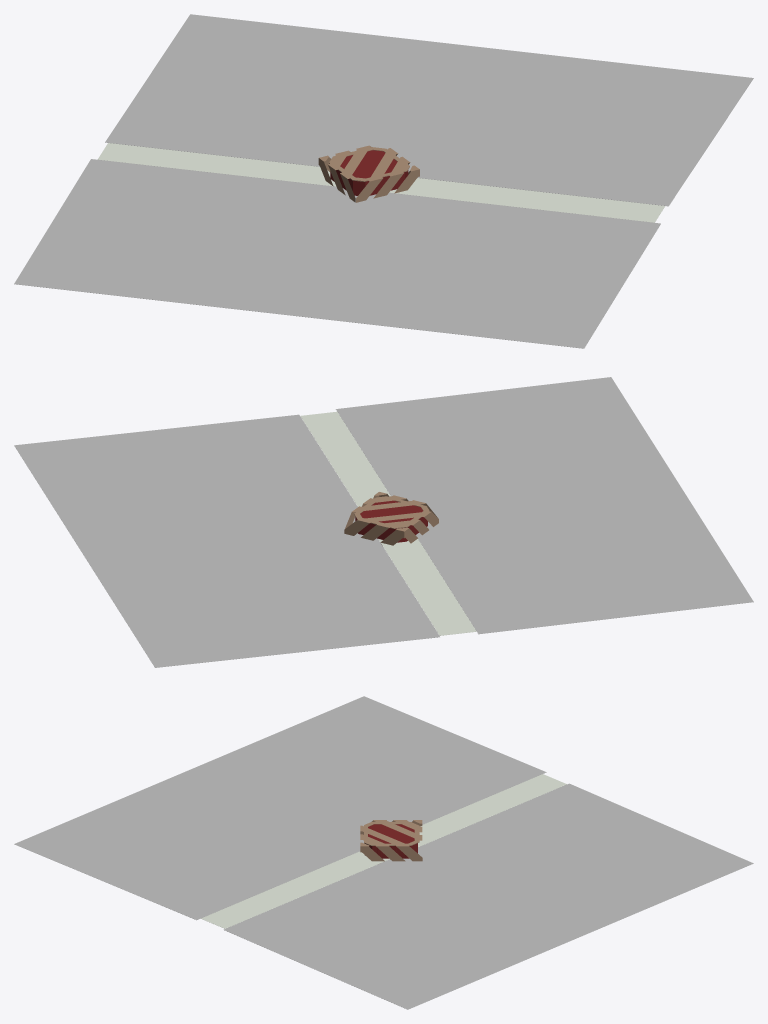
The model's file is Exterior_Moocad.fbx.
The picture shows the model from 3 angles, top to bottom: view 1: azimuth 30°, elevation 25°; view 2: azimuth 150°, elevation 25°; view 3: azimuth 270°, elevation 25°; orthographic projection. The views are drawn at different scales.
Parts seen in each view (by area): view 1: Terrain2, Terrain1, WaterLake1, Glass8; view 2: Terrain1, Terrain2, WaterLake1, Glass8; view 3: Terrain1, Terrain2, WaterLake1, Glass8.
Boxes of the visible parts, x1,y1,x2,y2 form: Terrain2: [14, 159, 660, 348]; Terrain1: [105, 14, 753, 206]; WaterLake1: [97, 143, 665, 222]; Glass8: [340, 150, 397, 178]; Terrain1: [14, 414, 439, 667]; Terrain2: [336, 377, 753, 634]; WaterLake1: [300, 411, 476, 635]; Glass8: [360, 500, 422, 523]; Terrain1: [223, 783, 753, 1009]; Terrain2: [14, 696, 546, 920]; WaterLake1: [201, 774, 566, 928]; Glass8: [368, 824, 414, 843].
Size of the model in its own units: 51582 by 1378 by 51446.
